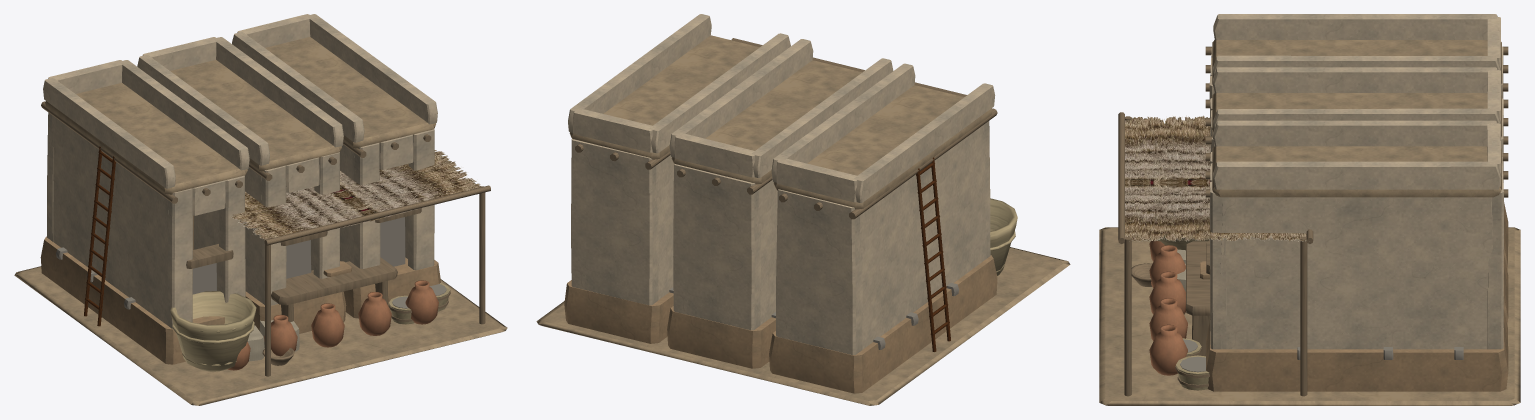
The model's file is granary.glb.
The picture shows the model from 3 angles, left to right: view 1: azimuth 30°, elevation 25°; view 2: azimuth 150°, elevation 25°; view 3: azimuth 270°, elevation 25°; orthographic projection. The views are drawn at different scales.
Visible parts, largest first — view 1: original-granary-warm-clay-plaster, original-granary-alluvial-earth, original-granary-worn-timber, original-granary-game-raw-brick-facing, original-granary-laid-reed-thatch, original-granary-reed-mat, original-granary-fired-pottery, original-granary-game-door-shadow, roof-access-granary, original-granary-woven-linen; view 2: original-granary-warm-clay-plaster, original-granary-alluvial-earth, original-granary-game-raw-brick-facing, roof-access-granary, original-granary-worn-timber, original-granary-reed-mat; view 3: original-granary-warm-clay-plaster, original-granary-alluvial-earth, original-granary-game-raw-brick-facing, original-granary-laid-reed-thatch, original-granary-worn-timber, original-granary-fired-pottery, original-granary-reed-mat, original-granary-game-door-shadow.
Boxes of the visible parts, left/top/right/bottom form: original-granary-warm-clay-plaster: left=43, top=14, right=437, bottom=328; original-granary-alluvial-earth: left=14, top=37, right=507, bottom=405; original-granary-worn-timber: left=41, top=101, right=490, bottom=376; original-granary-game-raw-brick-facing: left=40, top=236, right=440, bottom=364; original-granary-laid-reed-thatch: left=230, top=150, right=480, bottom=240; original-granary-reed-mat: left=170, top=283, right=450, bottom=371; original-granary-fired-pottery: left=227, top=280, right=438, bottom=370; original-granary-game-door-shadow: left=56, top=217, right=446, bottom=309; roof-access-granary: left=84, top=146, right=116, bottom=326; original-granary-woven-linen: left=247, top=320, right=299, bottom=361; original-granary-warm-clay-plaster: left=568, top=14, right=995, bottom=355; original-granary-alluvial-earth: left=536, top=35, right=1070, bottom=405; original-granary-game-raw-brick-facing: left=564, top=255, right=997, bottom=393; roof-access-granary: left=916, top=157, right=950, bottom=351; original-granary-worn-timber: left=575, top=38, right=997, bottom=219; original-granary-reed-mat: left=990, top=198, right=1017, bottom=275; original-granary-warm-clay-plaster: left=1209, top=14, right=1503, bottom=349; original-granary-alluvial-earth: left=1099, top=40, right=1520, bottom=405; original-granary-game-raw-brick-facing: left=1200, top=202, right=1508, bottom=391; original-granary-laid-reed-thatch: left=1125, top=115, right=1306, bottom=241; original-granary-worn-timber: left=1118, top=46, right=1508, bottom=396; original-granary-fired-pottery: left=1149, top=240, right=1187, bottom=375; original-granary-reed-mat: left=1149, top=235, right=1209, bottom=390; original-granary-game-door-shadow: left=1180, top=339, right=1463, bottom=372.
Bounding box in the file's own units: 5.37 × 3.2 × 5.37.
11 materials, 9 textured.
